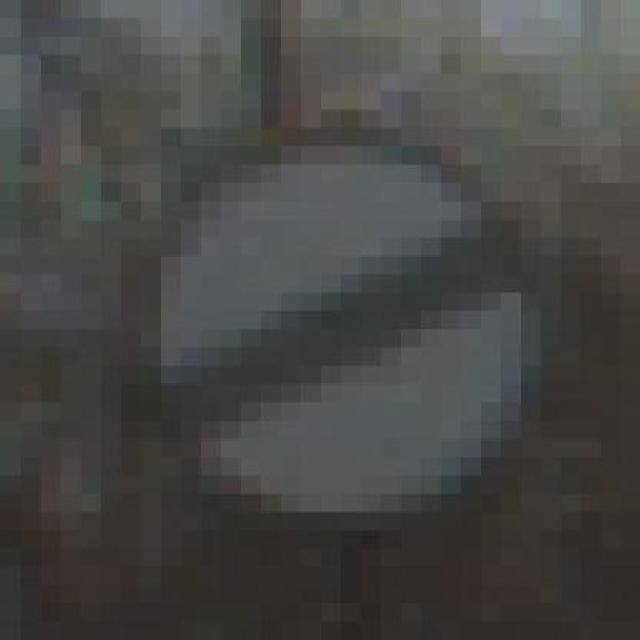End of all speed and passing limits: (140, 73, 560, 530)
